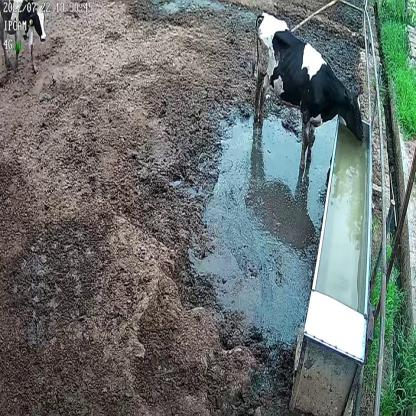cow: (250, 9, 364, 169), (0, 0, 48, 80)
